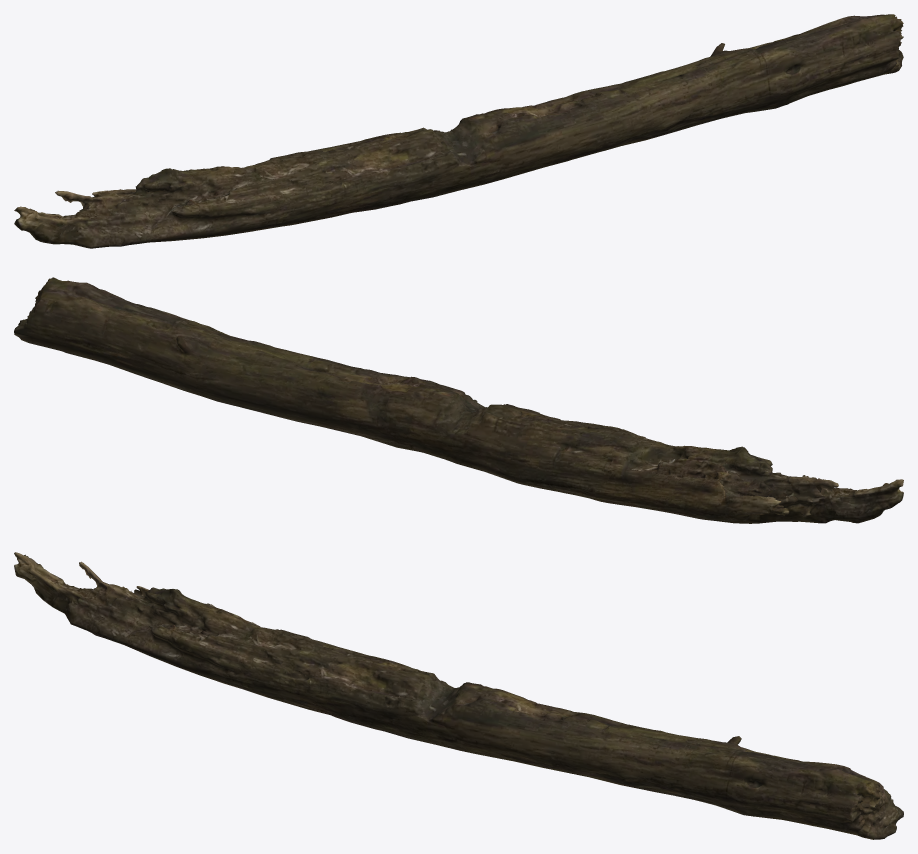
The model's file is dead_tree_trunk.glb.
The picture shows the model from 3 angles, top to bottom: view 1: azimuth 30°, elevation 25°; view 2: azimuth 150°, elevation 25°; view 3: azimuth 330°, elevation 25°; orthographic projection.
Visible parts, largest first — view 1: dead_tree_trunk; view 2: dead_tree_trunk; view 3: dead_tree_trunk.
Part boxes in pixels (<box>): dead_tree_trunk: <box>14,14,903,248</box>; dead_tree_trunk: <box>14,277,903,523</box>; dead_tree_trunk: <box>14,552,903,839</box>.
Size of the model in its own units: 3.05 by 0.2898 by 0.2775.
Materials: 1 (1 with a texture image).
